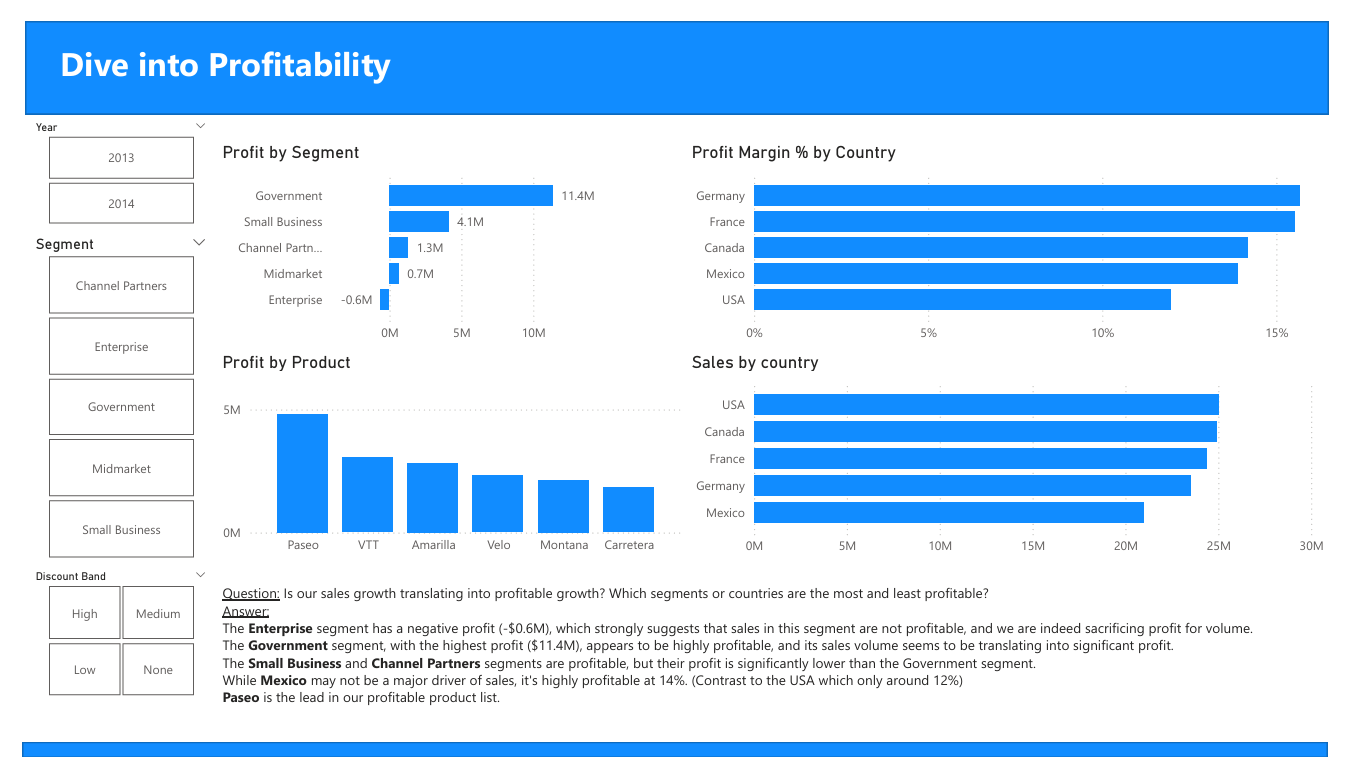

The dashboard page shown, as its layout file describes it:
{"tool":"powerbi","page":{"name":"Profit by Segments","canvas":[1280,720],"ordinal":2},"visuals":[{"type":"group","id":"g1","title":"PageDesign","box":[0,0,1280.4,720.5],"z":0},{"type":"shape","box":[0,706.2,1278.9,14.3],"z":0,"group":"g1"},{"type":"shape","box":[0,0,1280.4,90.7],"z":500,"group":"g1"},{"type":"slicer","fields":{"Values":["Calendar.Calendar Hierarchy.Year"]},"box":[0,91.7,191.7,113.3],"z":1000},{"type":"slicer","fields":{"Values":["Financial Data.Segment"]},"box":[0,205,191.7,326.7],"z":2000},{"type":"slicer","fields":{"Values":["Financial Data.Discount Band"]},"box":[0,531.7,191.7,135],"z":3000},{"type":"textbox","title":"Title","box":[25.4,12.7,526.5,66.8],"z":4000},{"type":"textbox","box":[190.5,545.7,1088.6,160.4],"z":5000},{"type":"clusteredBarChart","title":"Profit by Segment","fields":{"Category":["Financial Data.Segment"],"Y":["Sum(Financial Data.Profit)"]},"box":[190.9,117.7,396.1,205.2],"z":6000},{"type":"clusteredBarChart","fields":{"Category":["Financial Data.Country"],"Y":["Key_Metrics.Profit Margin %"]},"box":[650.6,117.7,629.9,205.2],"z":7000},{"type":"columnChart","title":"Profit by Product","fields":{"Category":["Financial Data.Product"],"Y":["Sum(Financial Data.Profit)"]},"box":[190.8,322.5,460.3,209],"z":8000},{"type":"clusteredBarChart","title":"Sales by country","fields":{"Category":["Financial Data.Country"],"Y":["Sum(Financial Data. Sales)"]},"box":[651,323,629,209],"z":9000},{"type":"pageNavigator","box":[639,0,641,90.7],"z":10000}]}

Visuals, with their boxes in screenshot pixels (x1, y1, x2, y2), scaled from the page's 1280x720 canvas onto the 1352x777 screenshot:
"PageDesign" group: <bbox>0, 0, 1351, 776</bbox>
shape: <bbox>0, 762, 1351, 776</bbox>
shape: <bbox>0, 0, 1351, 98</bbox>
slicer - Calendar.Calendar Hierarchy.Year: <bbox>0, 99, 202, 221</bbox>
slicer - Financial Data.Segment: <bbox>0, 221, 202, 574</bbox>
slicer - Financial Data.Discount Band: <bbox>0, 574, 202, 719</bbox>
"Title" textbox: <bbox>27, 14, 583, 86</bbox>
textbox: <bbox>201, 589, 1351, 762</bbox>
"Profit by Segment" clusteredBarChart: <bbox>202, 127, 620, 348</bbox>
clusteredBarChart - Financial Data.Country x Key_Metrics.Profit Margin %: <bbox>687, 127, 1351, 348</bbox>
"Profit by Product" columnChart: <bbox>202, 348, 688, 574</bbox>
"Sales by country" clusteredBarChart: <bbox>688, 349, 1351, 574</bbox>
pageNavigator: <bbox>675, 0, 1351, 98</bbox>
